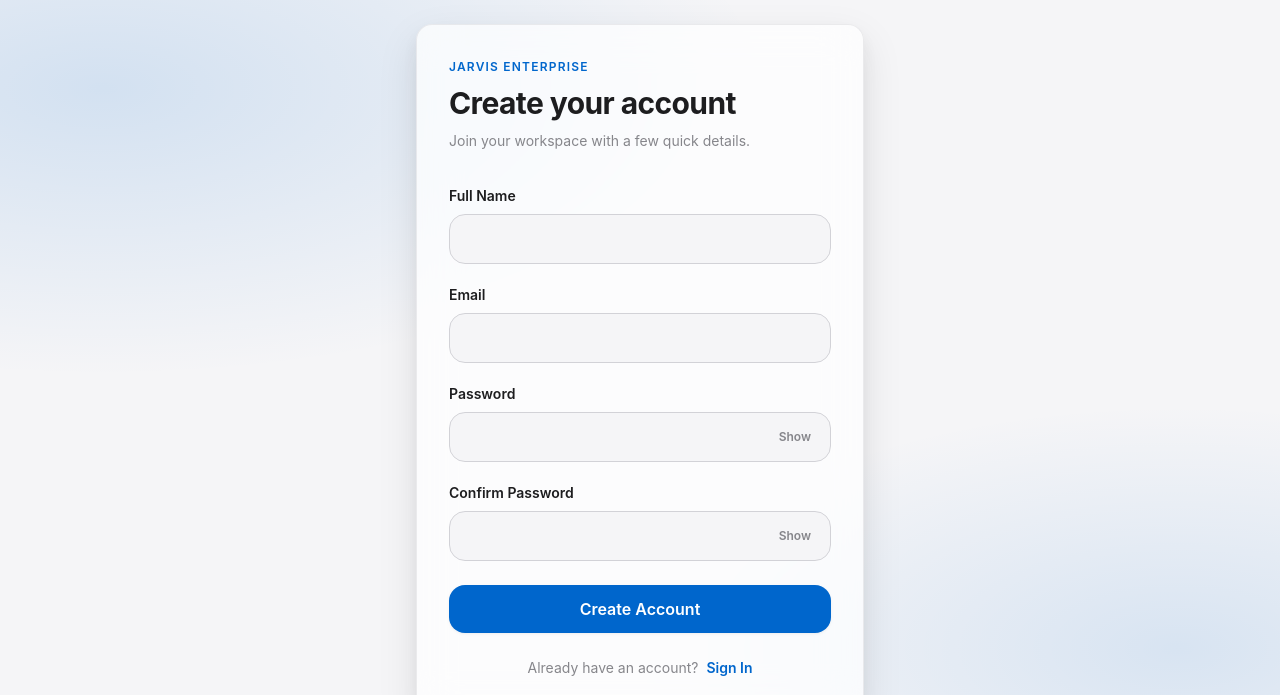
Scenario: SignupComponent › shows validation messages for empty fields
What coordinates should you click on to do the following:
click the submit button
I would click on:
 (640, 609)
Its box is [449,585,831,633].
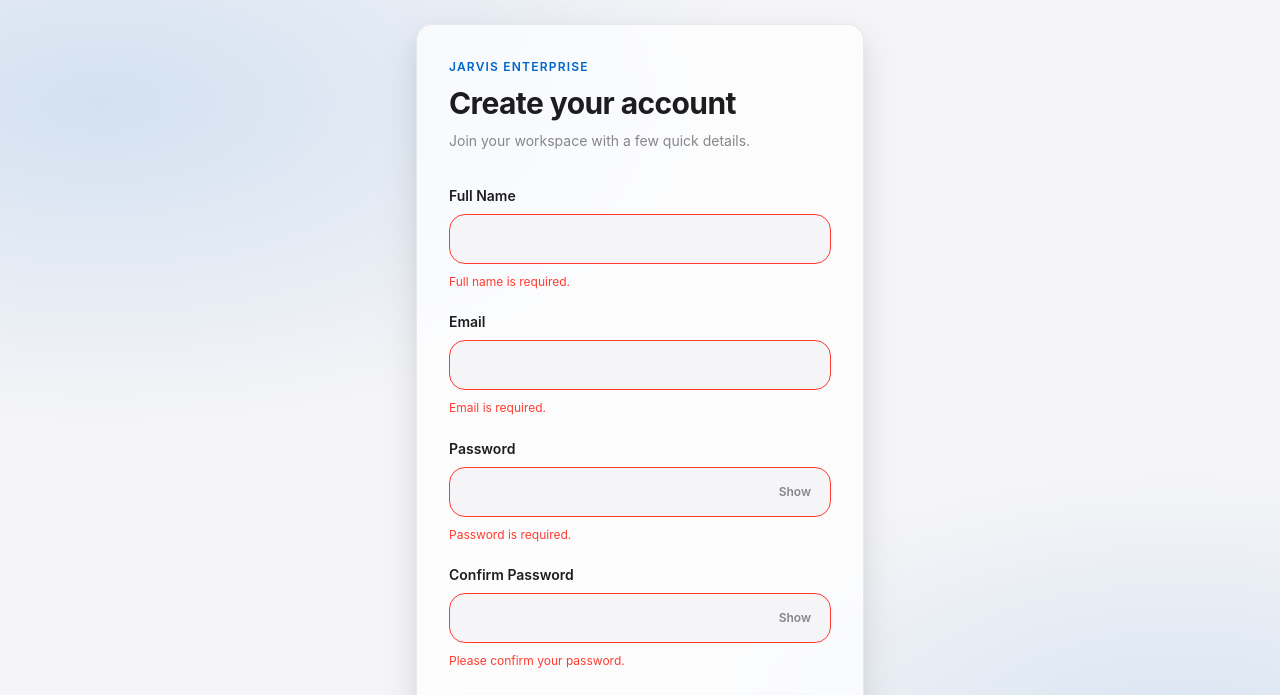
Result: the message "Full name is required." is shown at [449,274,570,289]
Result: the message "Email is required." is shown at [449,400,546,415]
Result: the message "Password is required." is shown at [449,527,571,542]
